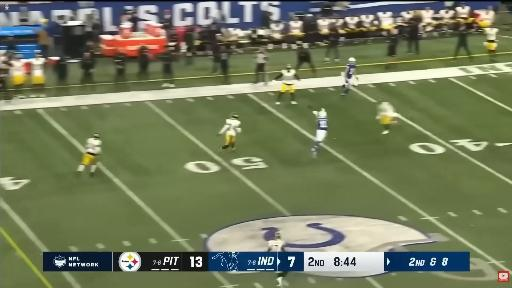Helmet: (273, 229, 282, 239), (318, 109, 327, 117), (230, 112, 239, 119), (94, 134, 100, 139), (286, 65, 291, 70), (349, 58, 355, 62)
Jersey: (314, 110, 327, 142), (220, 119, 241, 135), (344, 63, 356, 87), (86, 138, 101, 155), (378, 102, 395, 116), (281, 70, 296, 85), (268, 239, 285, 251), (484, 28, 498, 40), (316, 115, 327, 130)
Player: (273, 65, 300, 104), (78, 134, 101, 176), (218, 113, 241, 150), (312, 109, 327, 157), (376, 100, 397, 134), (341, 58, 358, 97), (484, 26, 498, 61), (268, 231, 285, 251)
